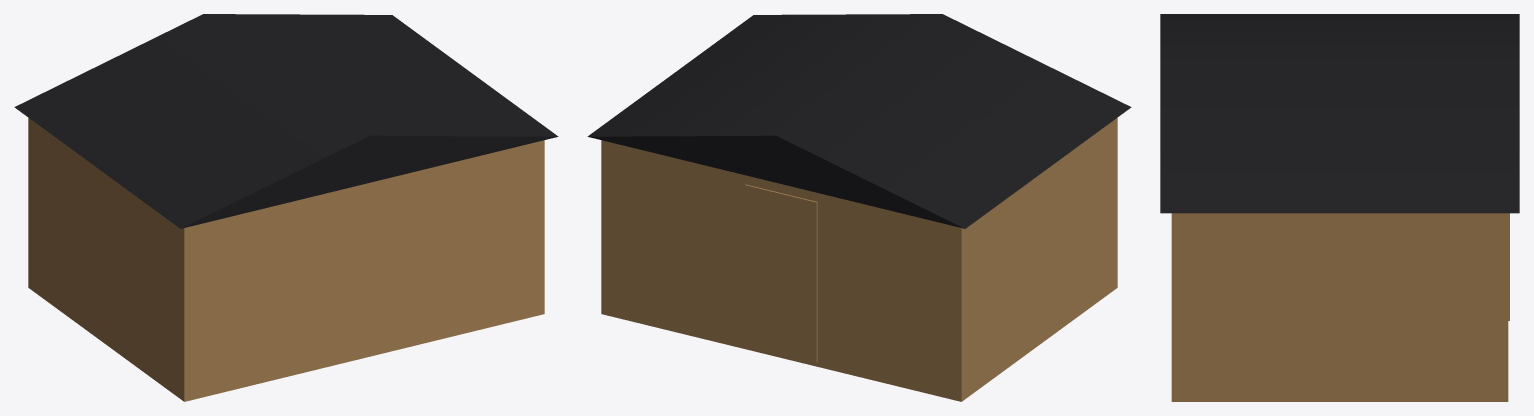
Rendered from home.garden.summer_house.glb.
The picture shows the model from 3 angles, left to right: view 1: azimuth 30°, elevation 25°; view 2: azimuth 150°, elevation 25°; view 3: azimuth 270°, elevation 25°; orthographic projection. The views are drawn at different scales.
Parts seen in each view (by area): view 1: main__softwood, main__roof_felt; view 2: main__softwood, main__roof_felt; view 3: main__roof_felt, main__softwood.
Boxes of the visible parts, box(x1,y1,x2,y2) form: main__softwood: box(28, 118, 544, 401); main__roof_felt: box(14, 14, 558, 228); main__softwood: box(601, 118, 1117, 401); main__roof_felt: box(587, 14, 1131, 228); main__roof_felt: box(1160, 14, 1519, 213); main__softwood: box(1171, 213, 1509, 401).
Size of the model in its own units: 4.2 by 2.4 by 3.2.
